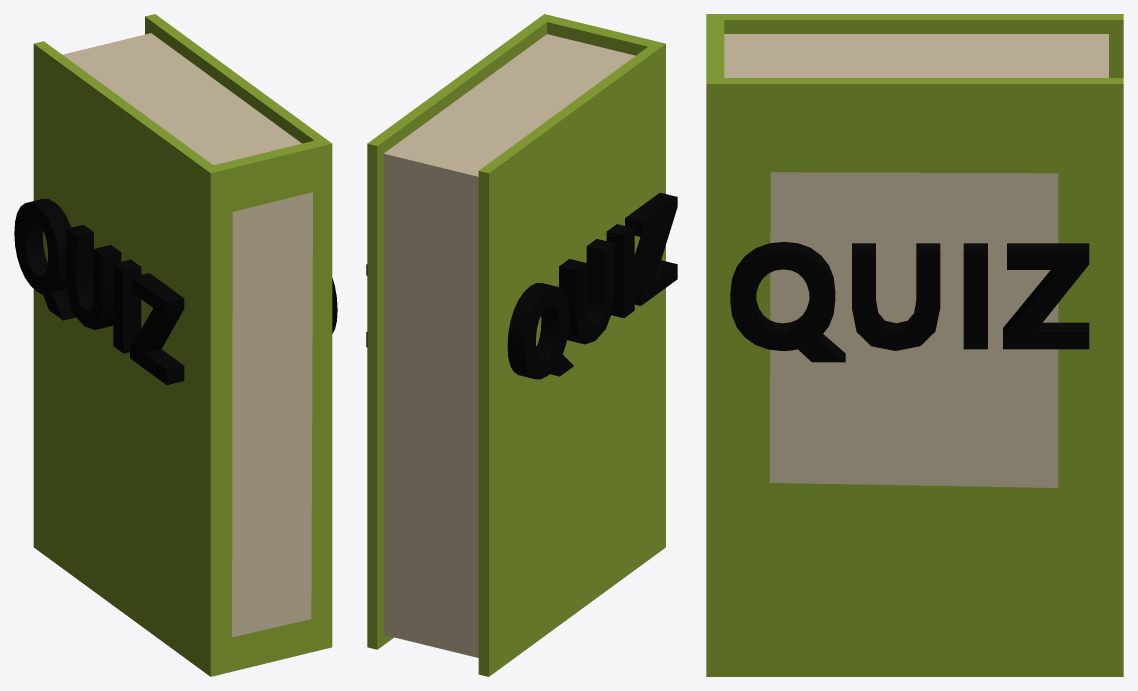
Rendered from quiz.fbx.
3 views of the same model, side by side, from view 1: azimuth 30°, elevation 25°; view 2: azimuth 150°, elevation 25°; view 3: azimuth 270°, elevation 25° (orthographic). The views are drawn at different scales.
Parts seen in each view (by area): view 1: node_id7 (×2), node_id35; view 2: node_id7 (×2), node_id35; view 3: node_id7 (×2), node_id45.
Part boxes in pixels (box(x1,y1,x2,y2)): node_id7 (×2): box(33, 14, 332, 676); node_id35: box(14, 199, 184, 384); node_id7 (×2): box(367, 14, 665, 676); node_id35: box(507, 192, 677, 379); node_id7 (×2): box(706, 14, 1123, 676); node_id45: box(730, 242, 1089, 362).
Size of the model in its own units: 0.1753 by 0.512 by 0.3264.
